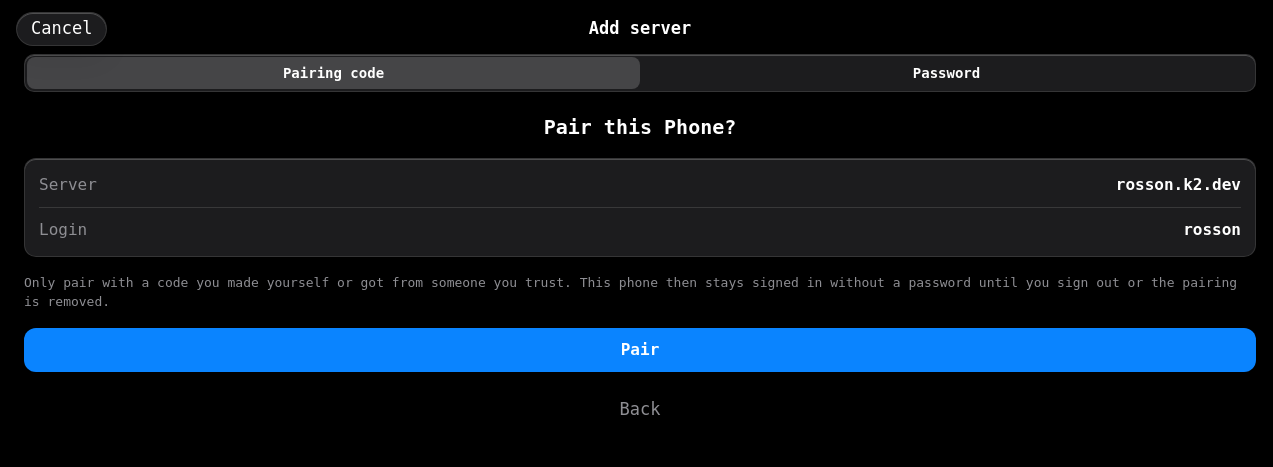
Test: pairing › a failed pairing goes back to the confirm with the error and unlocks Cancel
The width and height of the screenshot is (1273, 467).
Click the button with test id "pair-confirm-button".
click(640, 350)  # box 24,328 -> 1256,372
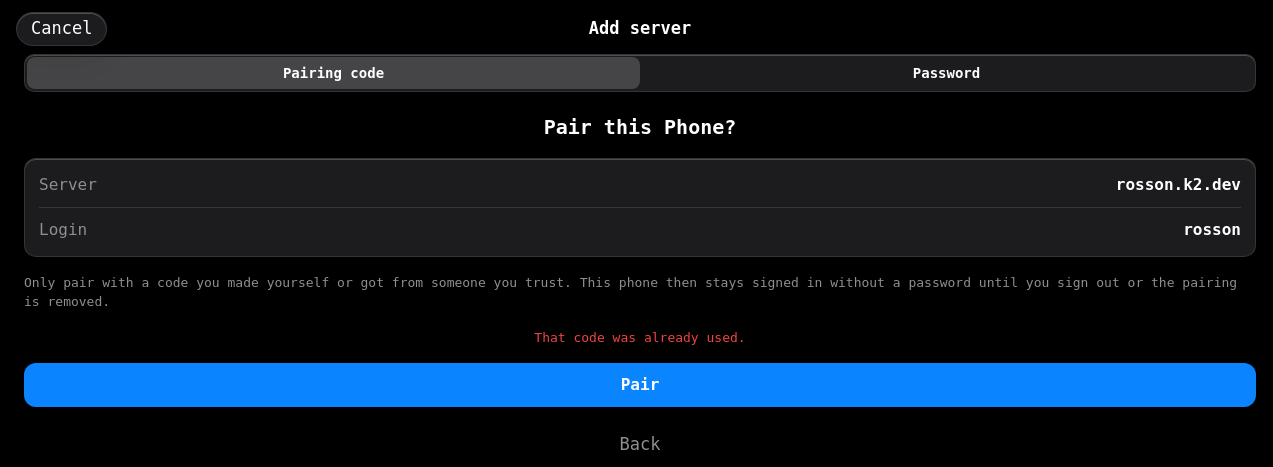
Expected: the button with test id "add-server-cancel" is enabled, 16,12 -> 107,46
Expected: the element with test id "pair-confirm" shows "That code was already used.", 534,330 -> 746,344
